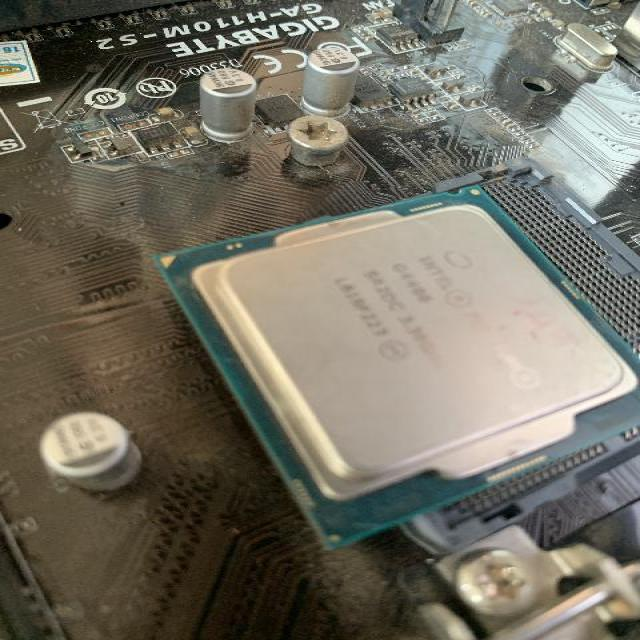CPU: (152, 183, 640, 552)
Mainboard: (0, 0, 639, 640)
